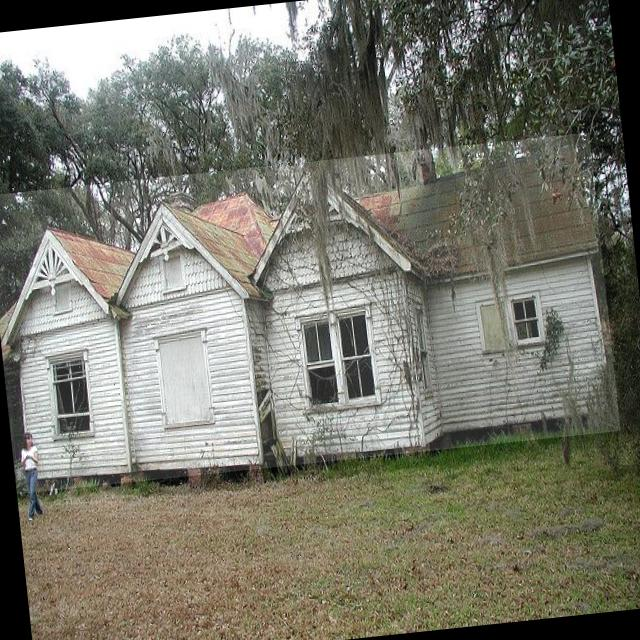House: (0, 132, 620, 494)
